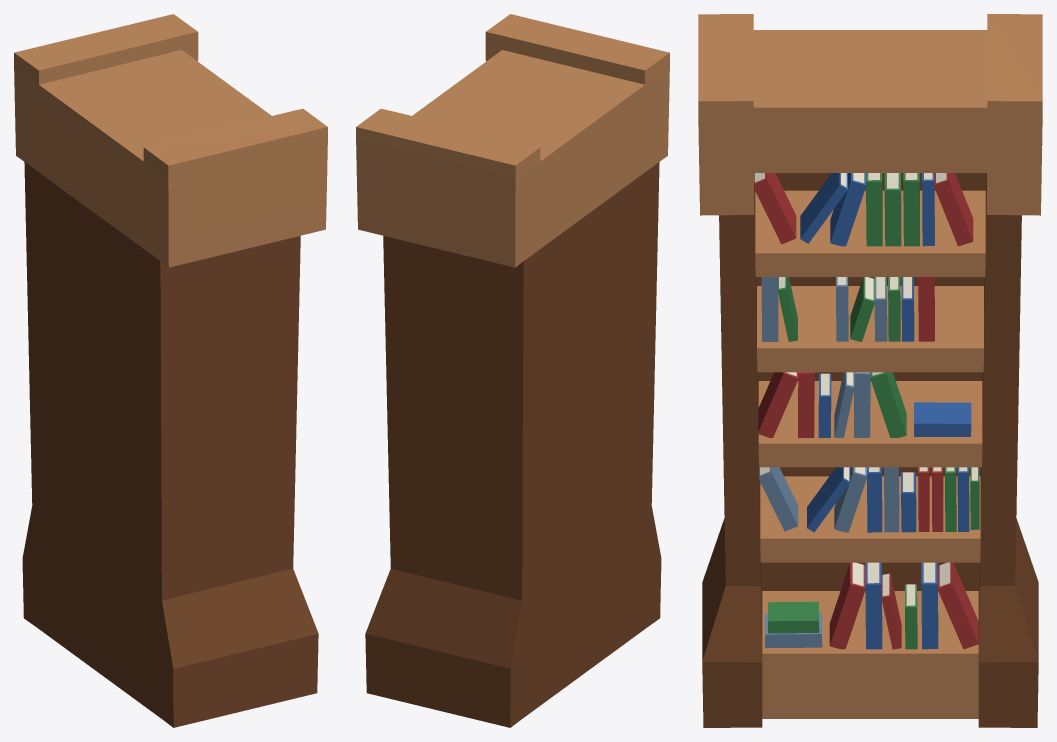
Rendered from BookCaseBooks.glb.
The picture shows the model from 3 angles, left to right: view 1: azimuth 30°, elevation 25°; view 2: azimuth 150°, elevation 25°; view 3: azimuth 270°, elevation 25°; orthographic projection. The views are drawn at different scales.
Bounding box in the file's own units: 0.4519 × 1.53 × 0.7577.
